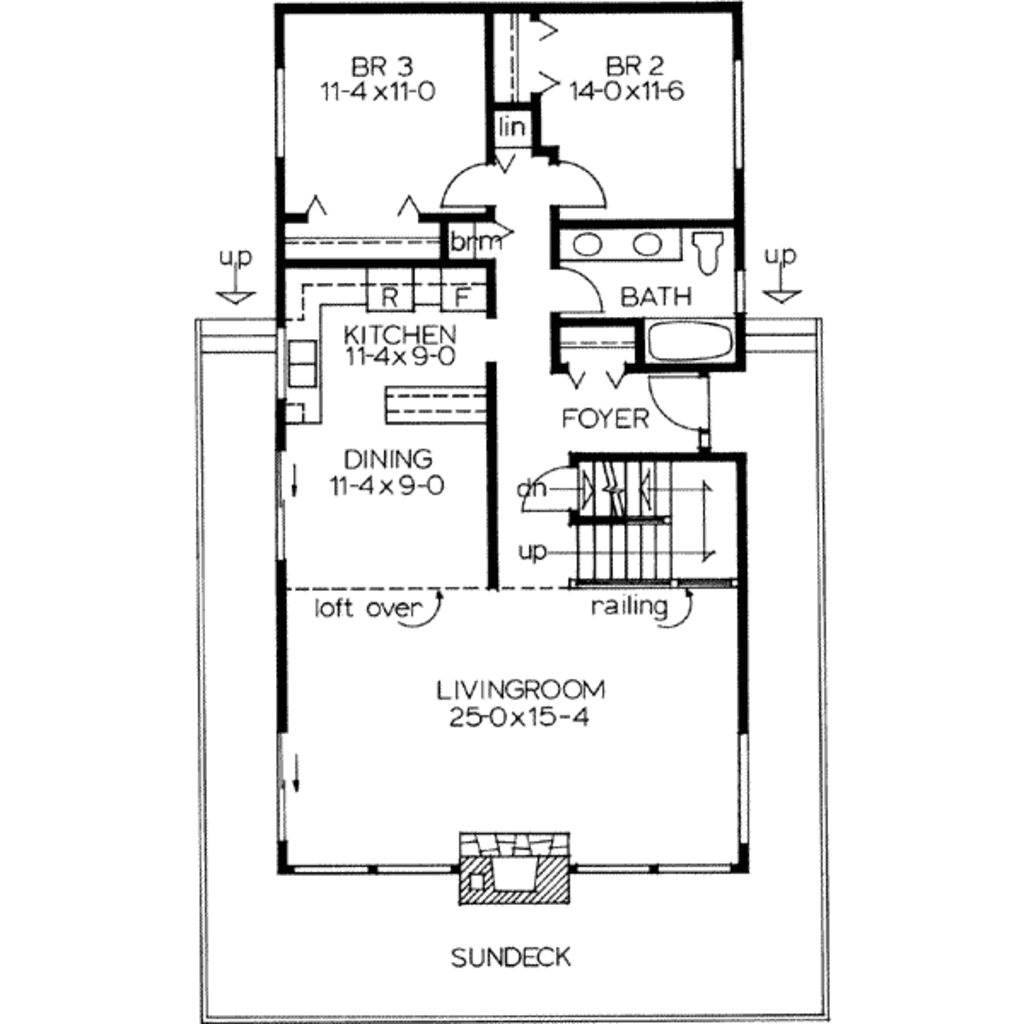door: (649, 371, 722, 444), (538, 146, 619, 209), (425, 152, 505, 206), (513, 458, 581, 520), (554, 265, 608, 317)
large_sink: (676, 227, 729, 285)
small_sink: (554, 225, 670, 260)
stairs: (568, 455, 743, 579), (170, 278, 286, 413), (741, 309, 821, 412)
tub: (641, 312, 740, 363)
twin_sink: (281, 330, 338, 393)
window: (289, 858, 465, 882), (267, 730, 292, 843), (570, 857, 730, 874), (268, 68, 292, 163), (732, 63, 749, 179), (738, 724, 752, 849)
